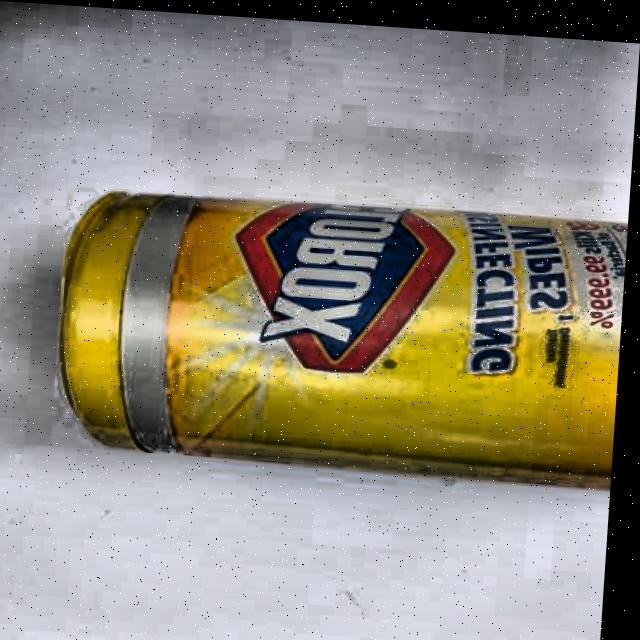plastic: (48, 183, 628, 496)
